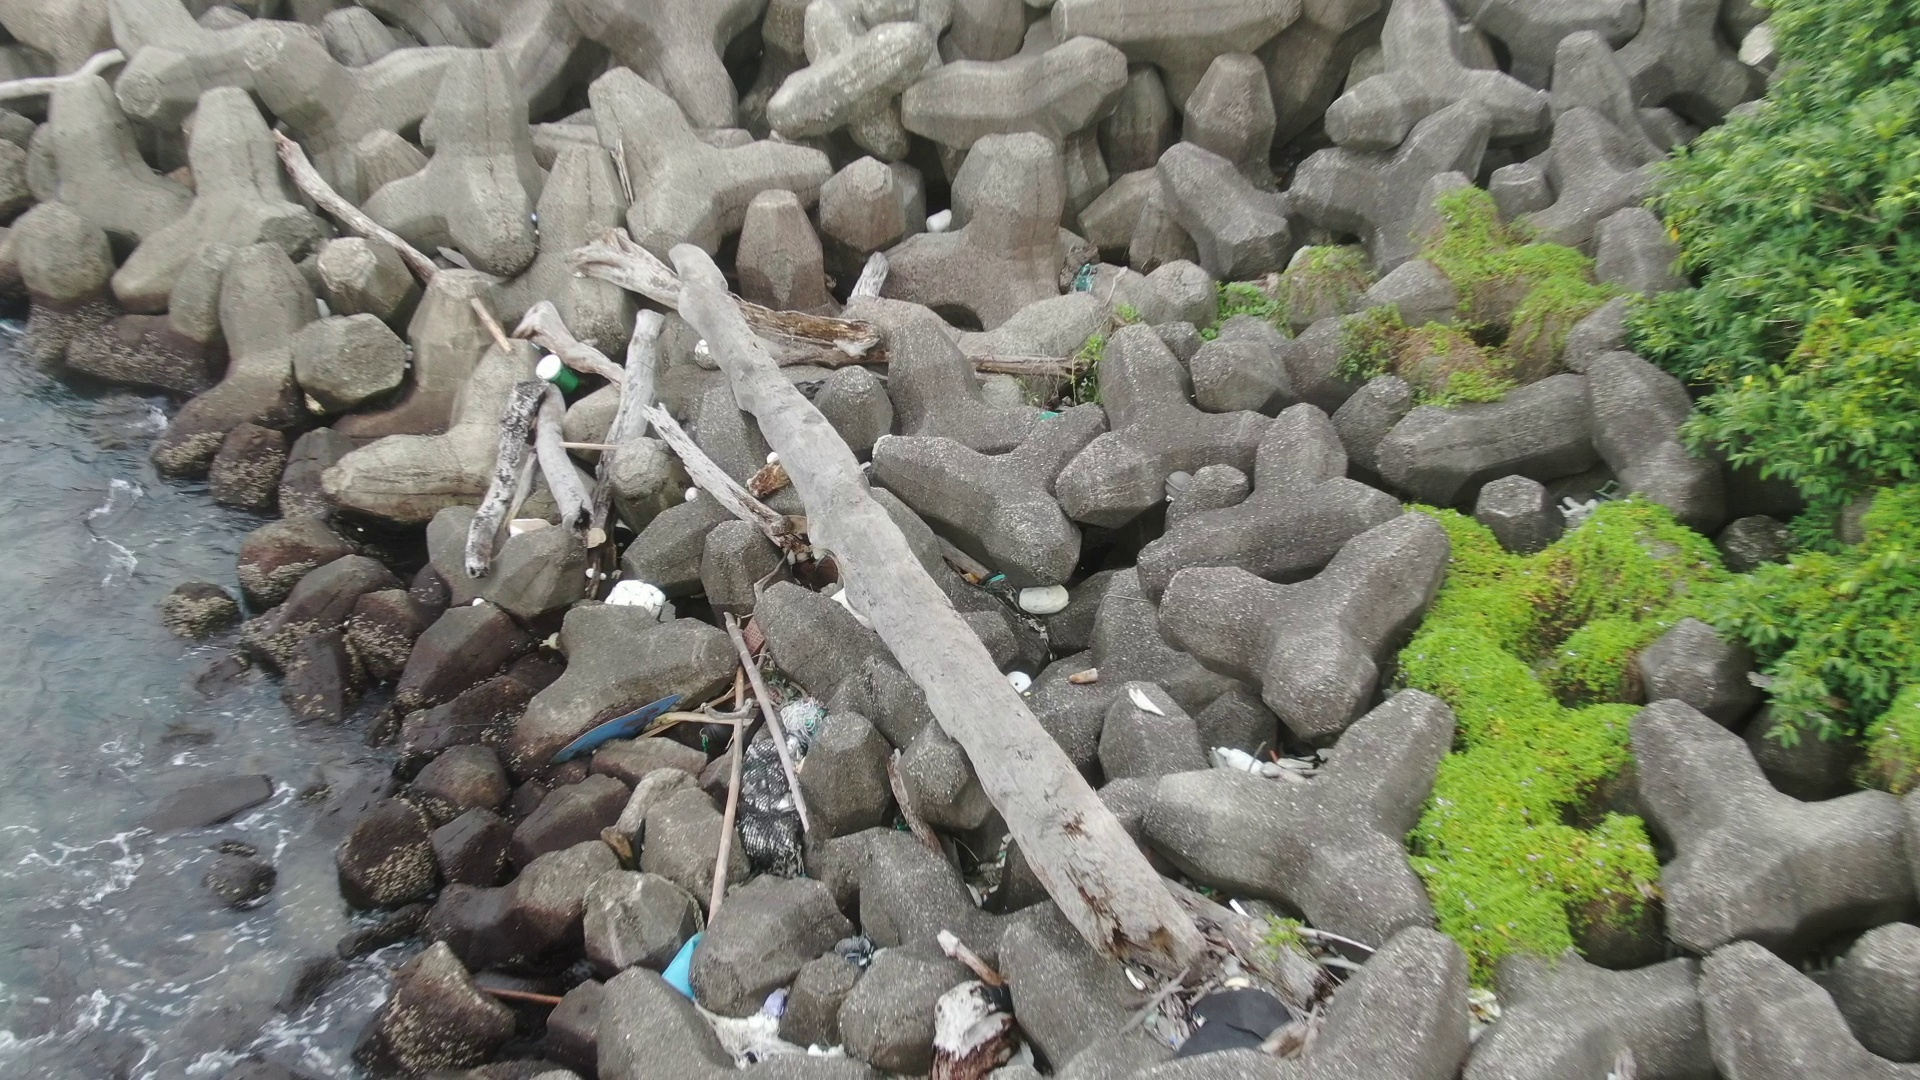garbage: (651, 924, 822, 1079), (737, 680, 837, 886), (541, 683, 702, 767), (591, 564, 684, 629), (1011, 583, 1089, 622), (527, 344, 582, 397), (1160, 467, 1203, 506), (923, 202, 963, 243)
